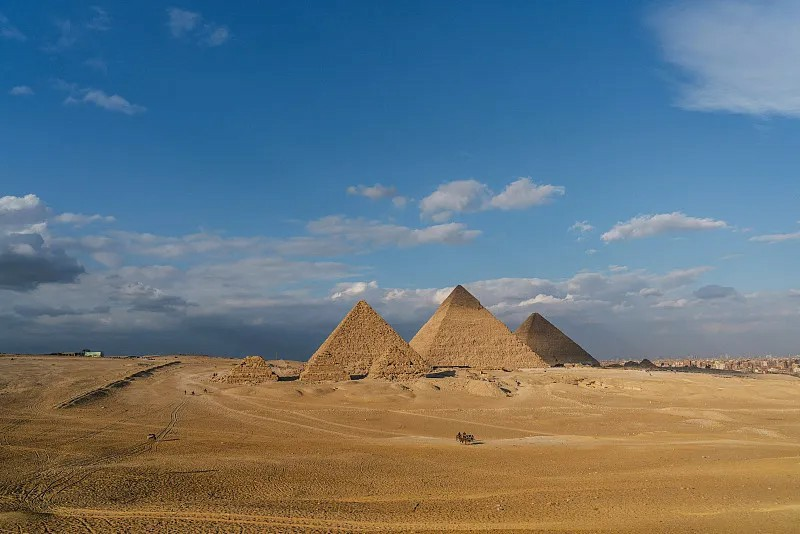Pyramid: (409, 285, 552, 368), (298, 299, 434, 380), (513, 314, 602, 366)
